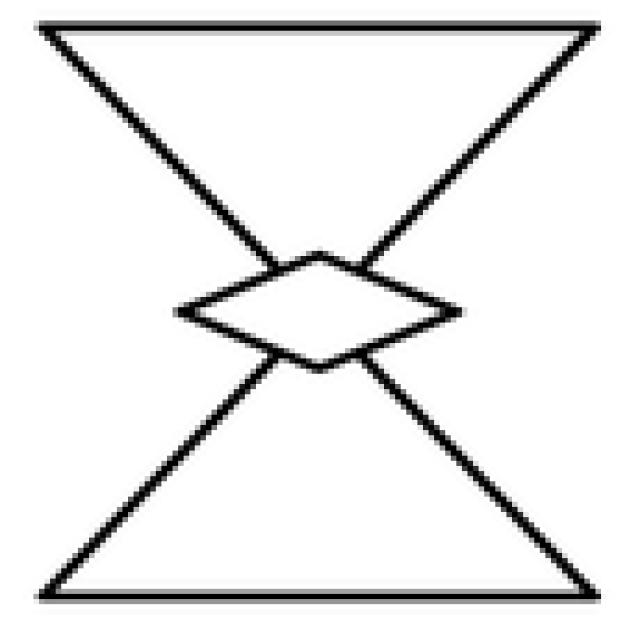Plug Valve: (51, 31, 596, 599)
